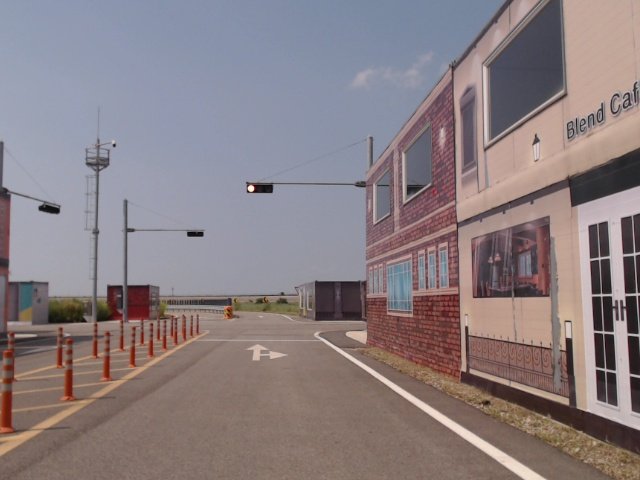red_3: (247, 184, 273, 193)
